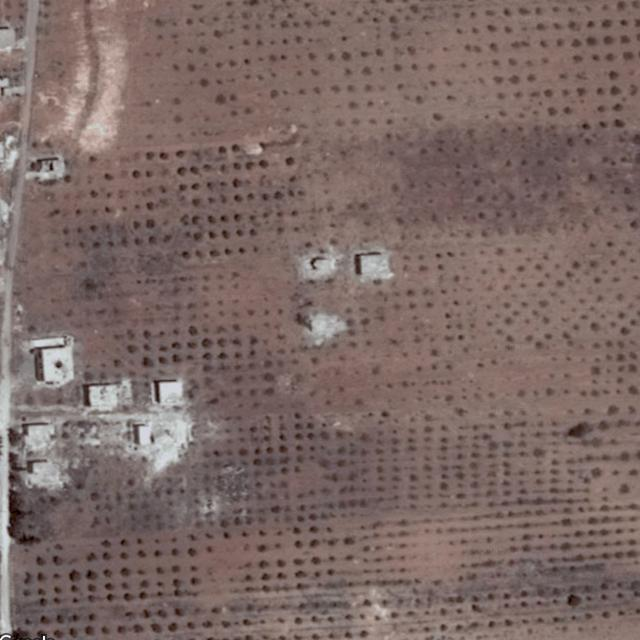damaged_building: (106, 413, 192, 473), (23, 454, 69, 493), (298, 244, 343, 281)
